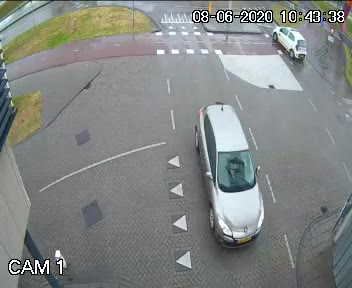car: (185, 94, 275, 252), (269, 18, 311, 64)
